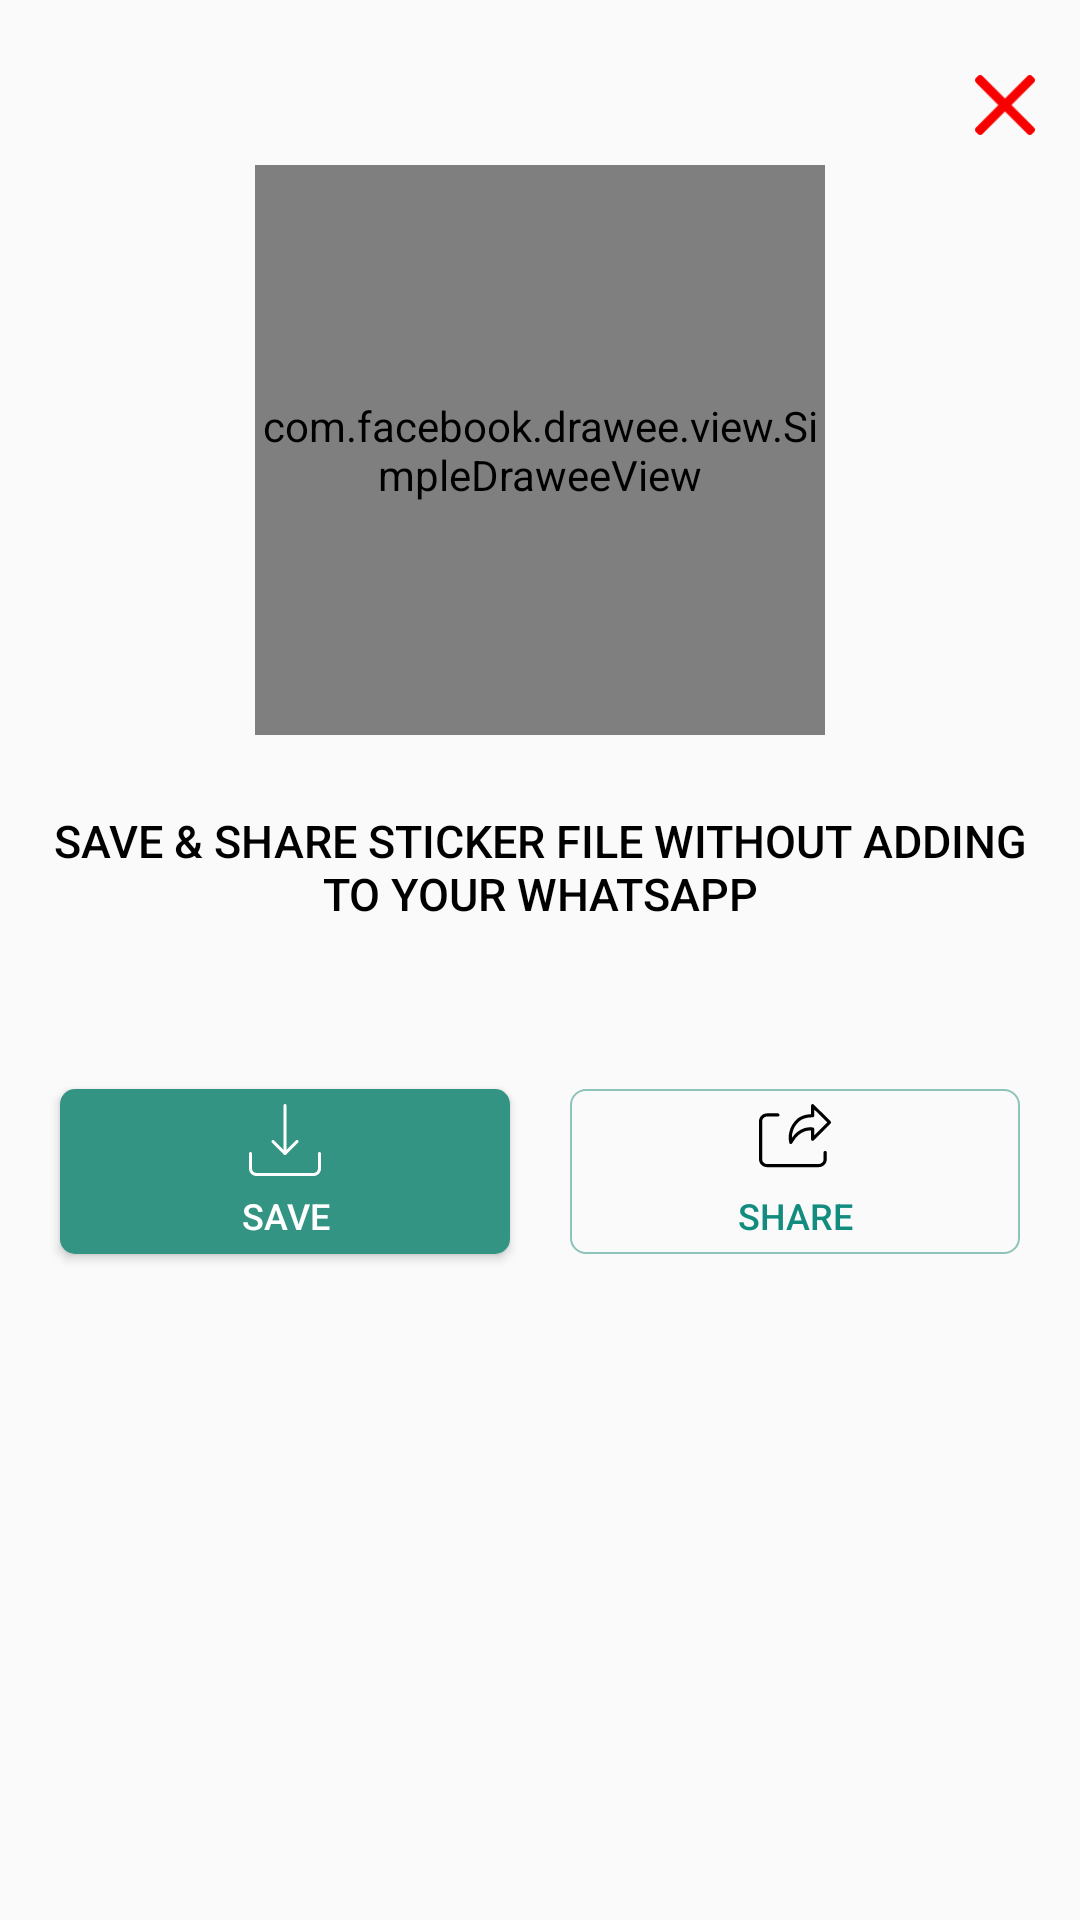

Where to tap for icons on this 1080 × 1920 app screen, as (x=x, y=y):
cancelbtn: (x=1005, y=105)
